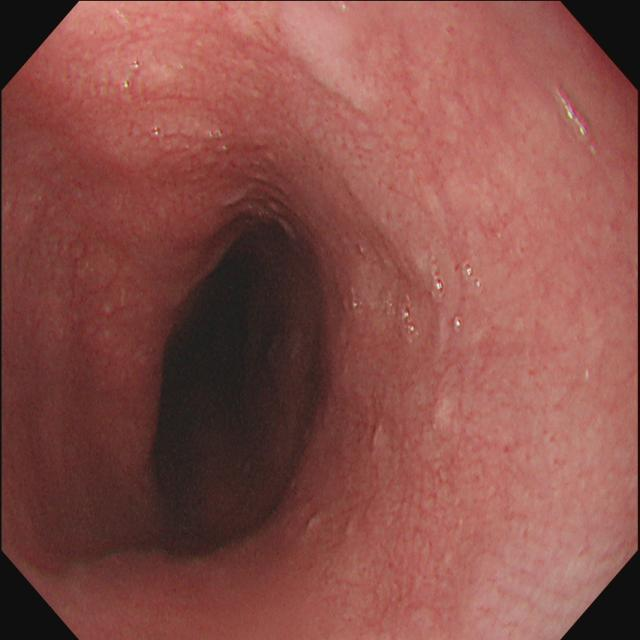E: (152, 214, 321, 552)
T: (342, 294, 419, 337), (556, 84, 592, 143), (428, 252, 448, 302), (460, 259, 487, 295), (121, 57, 145, 96), (452, 313, 468, 335)
